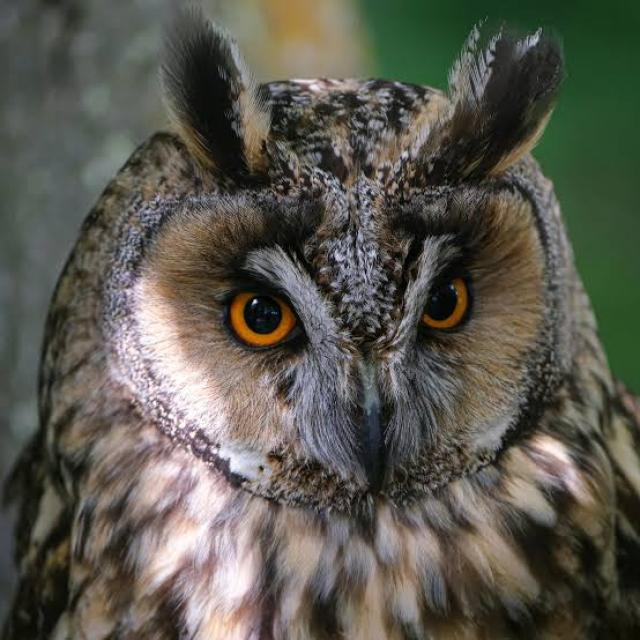long eared owl: (121, 10, 612, 595)
